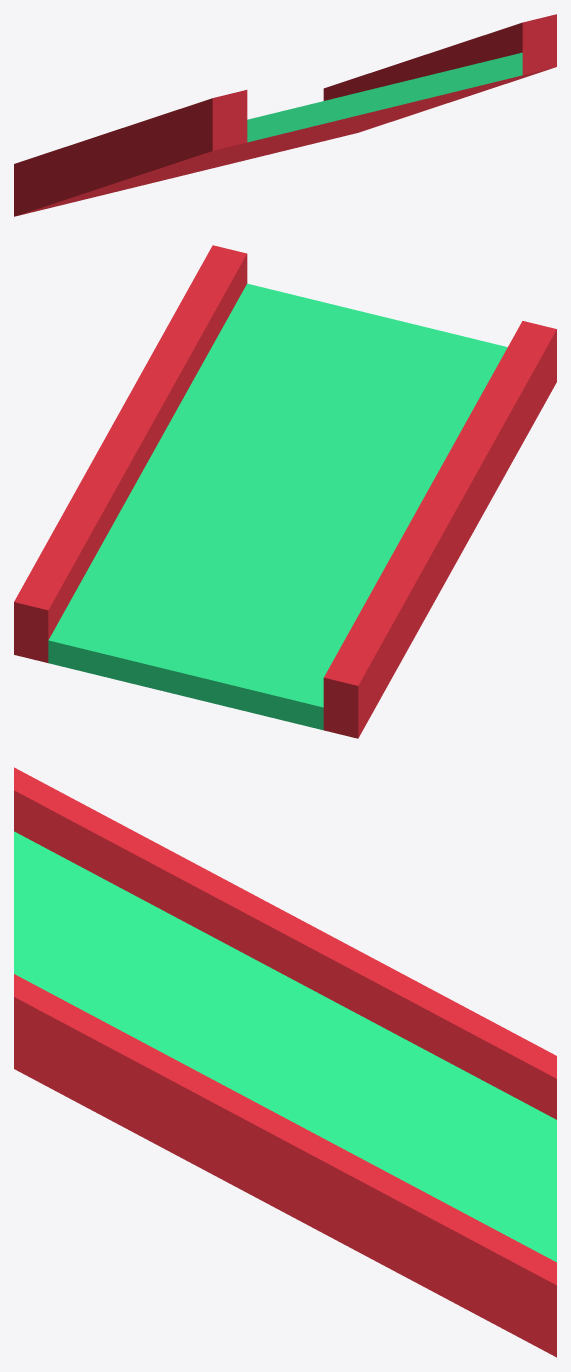
File: rampD.fbx
The picture shows the model from 3 angles, top to bottom: view 1: azimuth 30°, elevation 25°; view 2: azimuth 150°, elevation 25°; view 3: azimuth 270°, elevation 25°; orthographic projection. The views are drawn at different scales.
Visible parts, largest first — view 1: rampD; view 2: rampD; view 3: rampD.
Boxes of the visible parts, x1=… form: rampD: x1=14, y1=14, x2=556, y2=216; rampD: x1=14, y1=245, x2=556, y2=738; rampD: x1=14, y1=767, x2=556, y2=1357.
Size of the model in its own units: 10 by 7.33 by 10.
